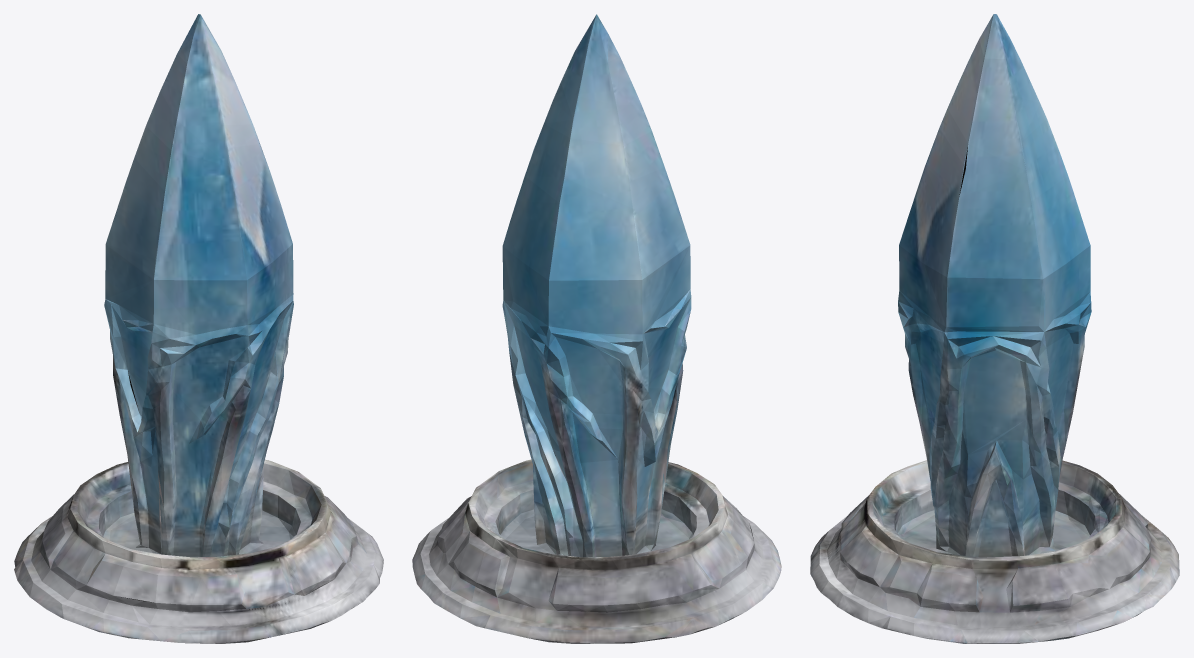
File: crystal_ice_shard_lod0.glb
3 views of the same model, side by side, from view 1: azimuth 30°, elevation 25°; view 2: azimuth 150°, elevation 25°; view 3: azimuth 270°, elevation 25° (orthographic).
Visible parts, largest first — view 1: crystal_ice_shard_lod0; view 2: crystal_ice_shard_lod0; view 3: crystal_ice_shard_lod0.
Part boxes in pixels (x1,y1,x2,y2): crystal_ice_shard_lod0: (14,14,383,643); crystal_ice_shard_lod0: (412,14,781,643); crystal_ice_shard_lod0: (810,14,1179,643).
Bounding box in the file's own units: 0.9013 × 1.5 × 0.9032.
Materials: 1 (1 with a texture image).
